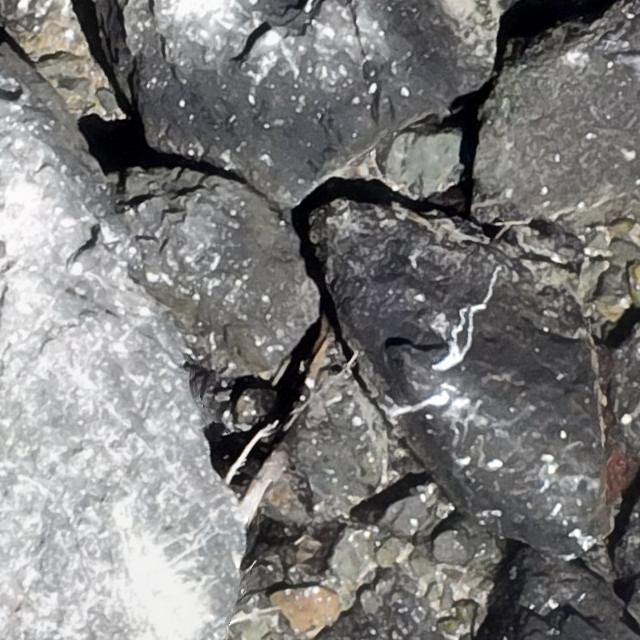umineko: (250, 29, 281, 69), (71, 246, 107, 275)
